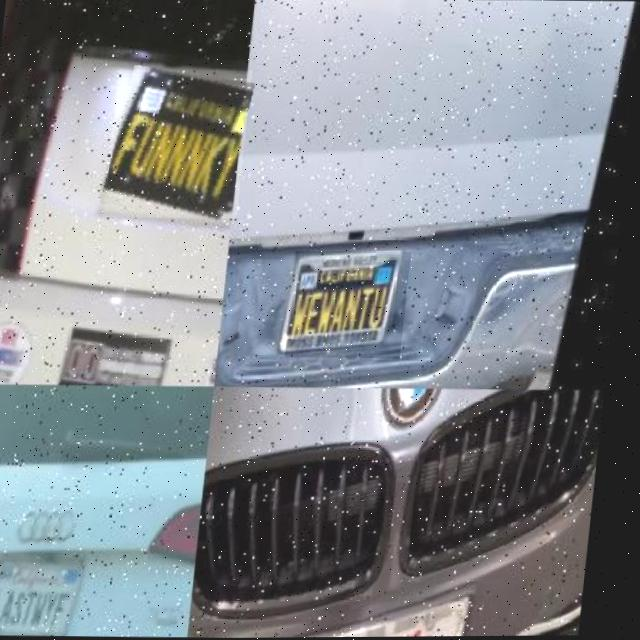LicensePlate: (107, 68, 253, 219), (291, 250, 415, 359), (0, 555, 95, 637)
